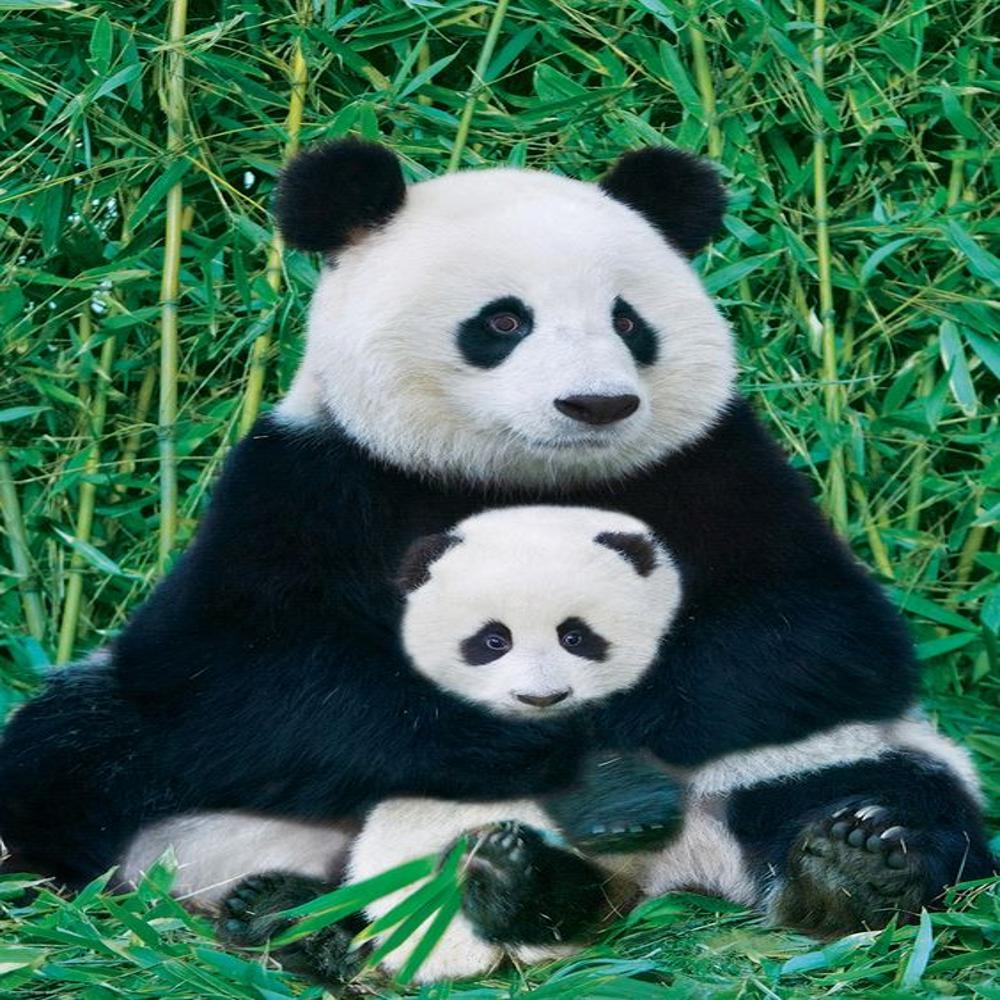panda: (0, 140, 973, 982)
